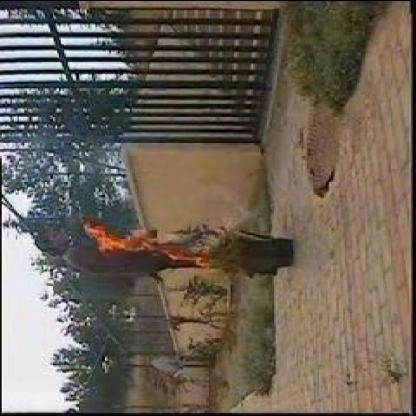-: (234, 206, 260, 224)
foggia-v2-map80-epoch100 - v1 4323: (89, 223, 181, 251)
